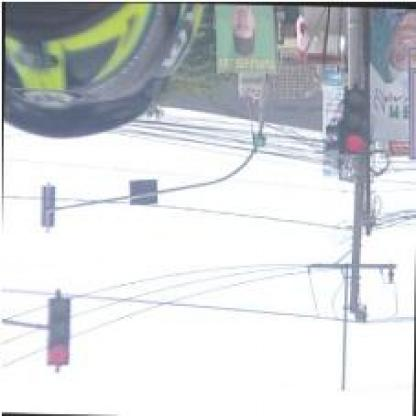red: (43, 296, 71, 367), (341, 85, 366, 153)
